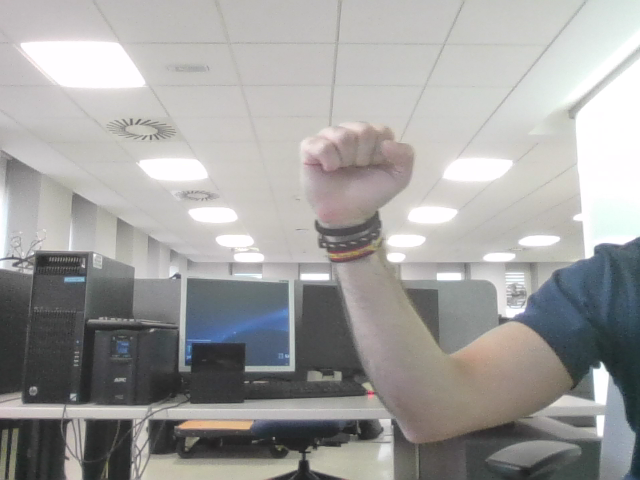Puño: (312, 131, 401, 199)
